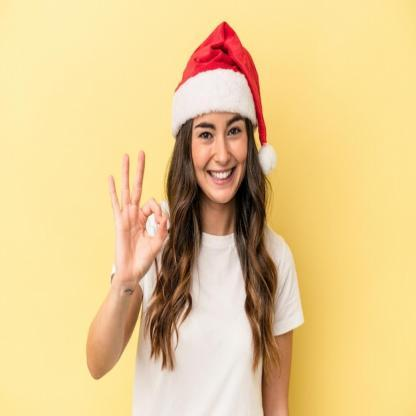ok: (104, 144, 171, 286)
